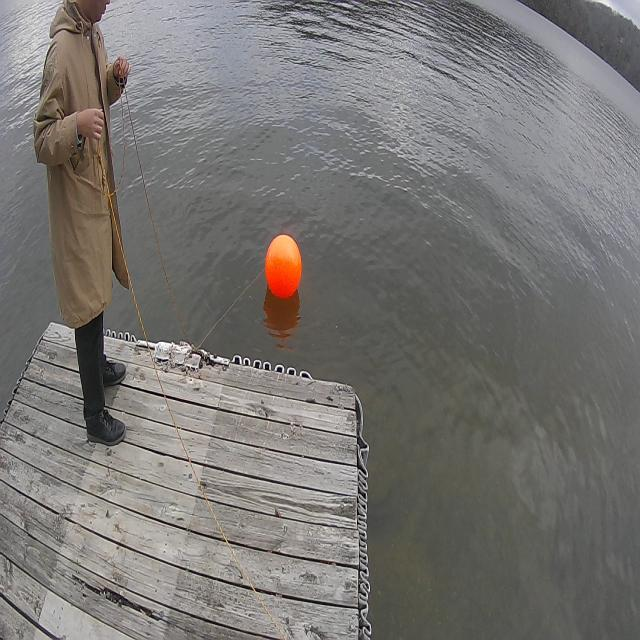Buoy: (262, 228, 305, 312)
